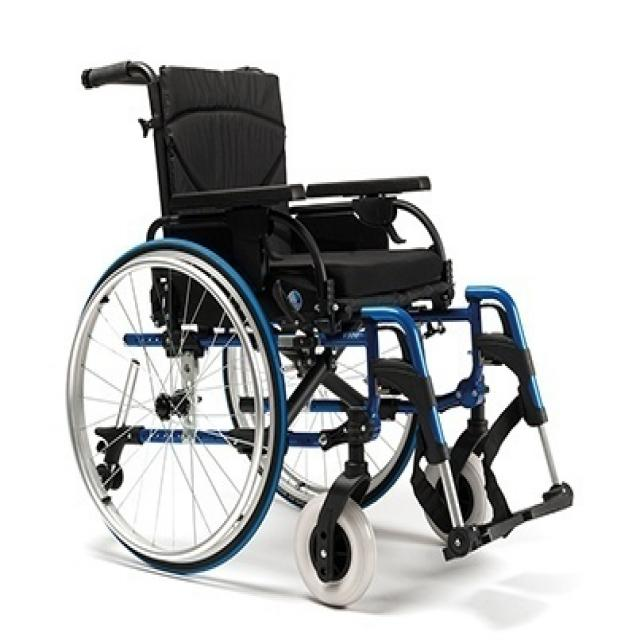wheelchair: (58, 46, 580, 612)
